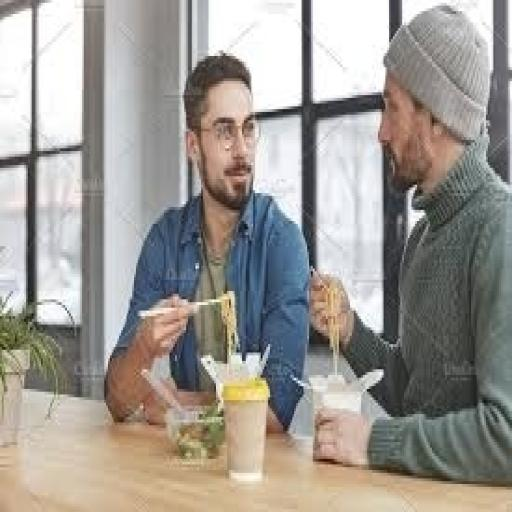eating: (307, 3, 510, 487), (102, 48, 313, 434)
